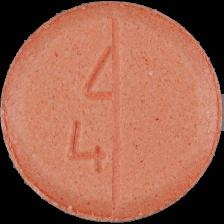63739-556: (0, 0, 224, 224)
